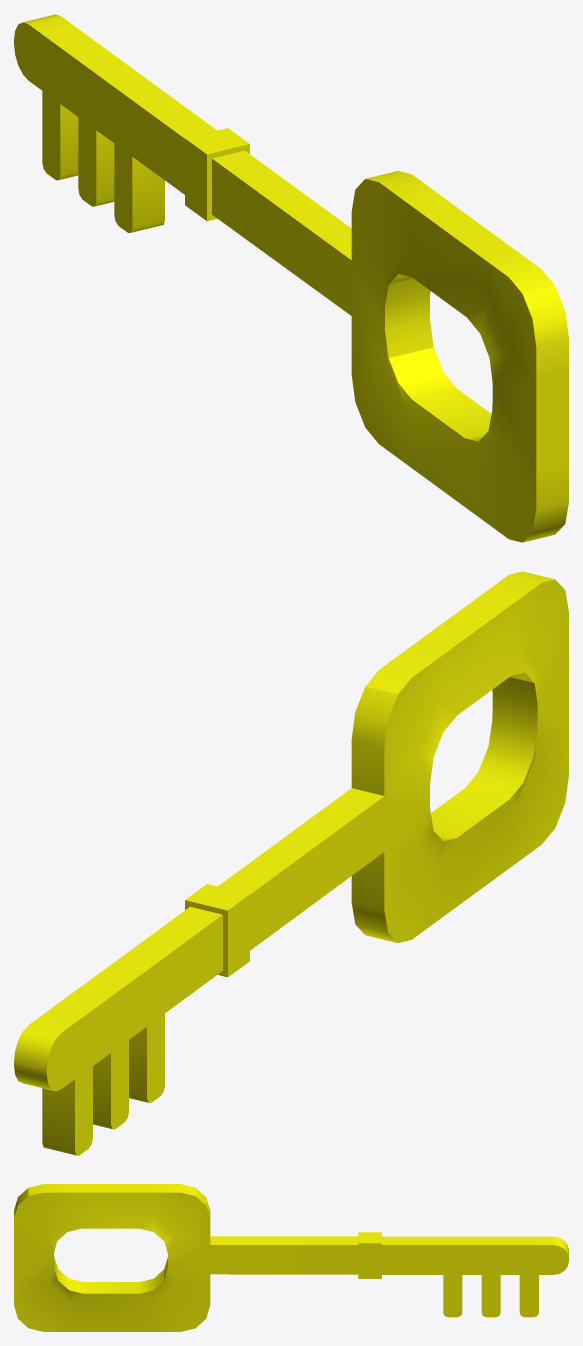
Rendered from Key.glb.
The picture shows the model from 3 angles, top to bottom: view 1: azimuth 30°, elevation 25°; view 2: azimuth 150°, elevation 25°; view 3: azimuth 270°, elevation 25°; orthographic projection. The views are drawn at different scales.
Parts seen in each view (by area): view 1: Key; view 2: Key; view 3: Key.
Boxes of the visible parts, bbox=[...] form: Key: bbox=[14, 14, 568, 542]; Key: bbox=[14, 571, 568, 1155]; Key: bbox=[14, 1184, 568, 1331].
Bounding box in the file's own units: 0.0218 × 0.1212 × 0.4379.
1 material, 1 textured.
